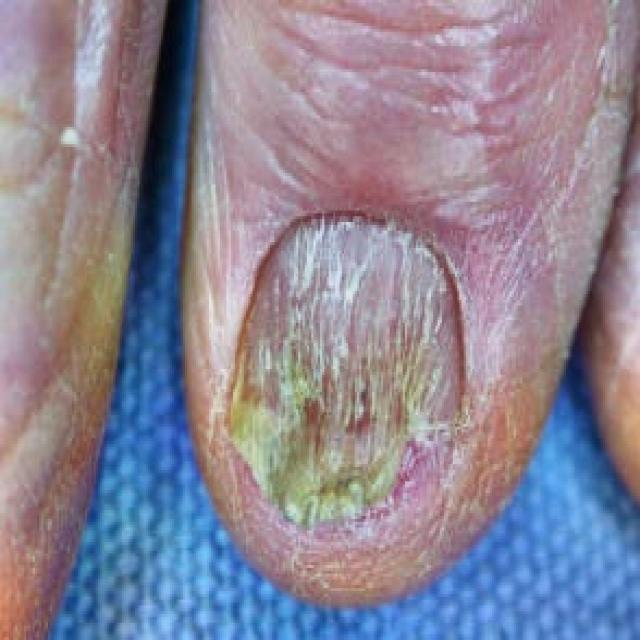Psoriasis-pictures-Lichen-Planus: (27, 150, 516, 566)
